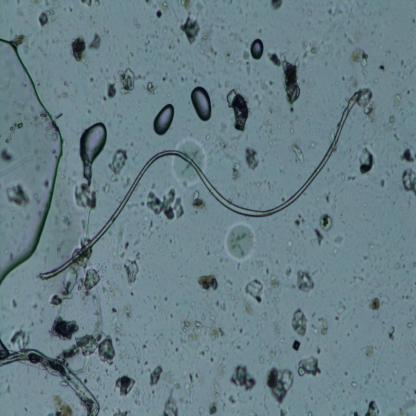Air bubble: (0, 37, 63, 288), (76, 121, 106, 171), (150, 100, 177, 136), (297, 352, 324, 383), (249, 38, 266, 62)
Background material: (173, 137, 206, 187), (223, 220, 260, 261), (147, 188, 191, 222), (222, 87, 250, 136), (46, 265, 80, 305), (190, 82, 216, 123), (265, 372, 295, 405), (78, 177, 104, 215), (197, 23, 224, 58), (400, 144, 416, 203), (118, 253, 144, 289), (1, 181, 31, 212), (230, 361, 260, 392), (280, 60, 301, 104), (355, 138, 377, 179), (356, 83, 378, 123), (50, 314, 80, 342), (178, 314, 205, 345), (193, 270, 224, 295), (179, 16, 203, 48), (265, 264, 285, 300), (243, 275, 266, 305), (180, 367, 198, 405), (109, 145, 131, 176), (289, 309, 309, 341), (314, 210, 334, 242), (204, 314, 228, 340), (68, 34, 88, 64), (161, 389, 184, 415), (10, 327, 36, 350), (296, 269, 319, 294), (120, 66, 136, 101), (346, 47, 370, 70), (116, 368, 135, 396), (297, 35, 319, 59), (206, 385, 223, 416), (47, 397, 74, 416), (384, 112, 401, 142), (312, 310, 331, 336), (340, 27, 363, 48), (8, 116, 28, 140), (146, 361, 166, 385), (244, 147, 262, 171), (332, 298, 347, 326), (192, 189, 208, 214), (100, 82, 119, 103), (362, 394, 382, 413), (389, 88, 404, 113), (87, 32, 104, 54), (0, 144, 17, 166), (362, 364, 378, 386), (357, 343, 376, 361), (241, 47, 252, 78), (150, 0, 166, 21), (216, 353, 230, 377), (289, 142, 304, 163), (262, 346, 280, 363), (321, 188, 337, 206), (258, 75, 274, 93), (324, 6, 342, 22), (110, 325, 121, 350), (295, 214, 308, 235), (261, 0, 288, 10), (143, 78, 154, 101), (36, 11, 48, 31), (268, 51, 281, 69), (354, 266, 367, 283), (275, 321, 285, 343), (191, 0, 205, 15), (370, 298, 383, 314), (77, 0, 103, 8), (345, 74, 358, 88), (339, 210, 349, 228), (6, 297, 18, 312), (224, 50, 236, 65), (121, 303, 133, 318), (291, 336, 302, 352), (113, 407, 132, 416), (387, 318, 394, 342), (214, 298, 228, 310), (235, 318, 247, 332), (275, 404, 288, 416), (178, 0, 192, 11), (333, 234, 343, 248), (400, 58, 410, 72), (227, 394, 237, 408), (405, 316, 414, 331), (360, 251, 372, 262), (312, 342, 323, 354), (144, 36, 151, 54), (110, 305, 121, 316), (376, 61, 386, 72), (364, 240, 376, 249), (133, 17, 141, 30), (196, 348, 205, 358), (346, 174, 356, 183), (285, 238, 293, 249), (169, 39, 177, 50), (128, 48, 136, 58), (378, 178, 386, 188), (179, 75, 189, 83), (393, 262, 404, 269), (399, 293, 411, 299), (408, 16, 416, 25), (140, 341, 148, 349), (377, 43, 385, 51), (314, 196, 322, 204), (404, 86, 410, 96), (172, 55, 180, 62), (181, 61, 188, 69), (373, 76, 380, 84), (351, 380, 357, 389), (354, 320, 360, 329), (386, 51, 393, 58), (344, 330, 350, 338), (412, 260, 416, 272), (344, 368, 349, 377), (162, 73, 167, 81), (352, 410, 358, 416), (341, 73, 345, 82), (397, 180, 402, 187), (306, 411, 313, 416), (193, 76, 198, 82), (210, 356, 214, 363), (238, 342, 241, 350), (414, 386, 416, 397), (395, 163, 398, 169), (138, 76, 142, 80)
Cellulose filter fibre: (0, 344, 104, 414), (80, 257, 110, 383)
Microfibre: (37, 89, 361, 281)
